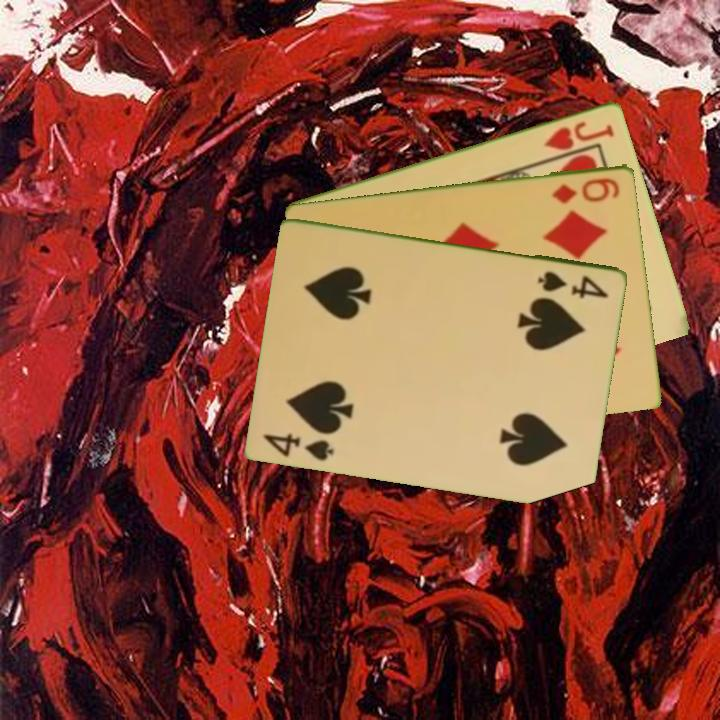4s: (535, 267, 612, 301), (260, 430, 337, 463)
6d: (549, 174, 623, 206)
Jh: (541, 117, 618, 153)
